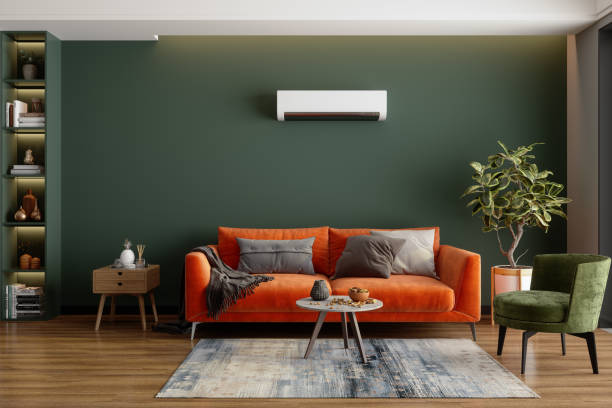chair: (491, 251, 611, 375)
large plant: (462, 138, 571, 292)
sofa: (182, 224, 483, 342)
table: (295, 293, 385, 366)
